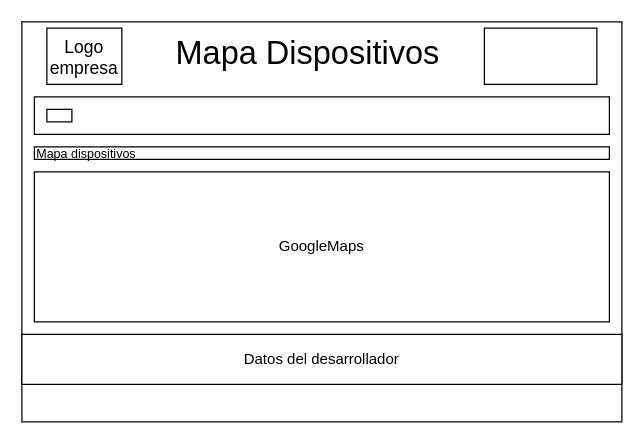
Image size: 644x444. Some labels were removed from this diagram. Each missing label, with the centre of its shape:
"Emblema del municipio" belongs at pixel 540 55.
"Volver" belongs at pixel 321 115.
